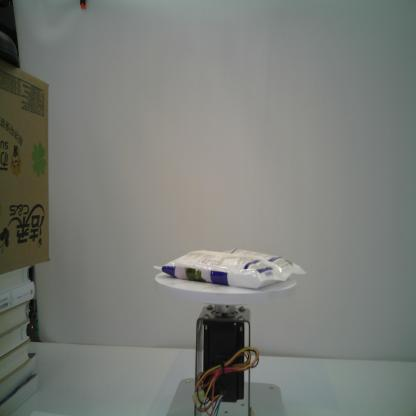Seasoner: (154, 247, 308, 290)
